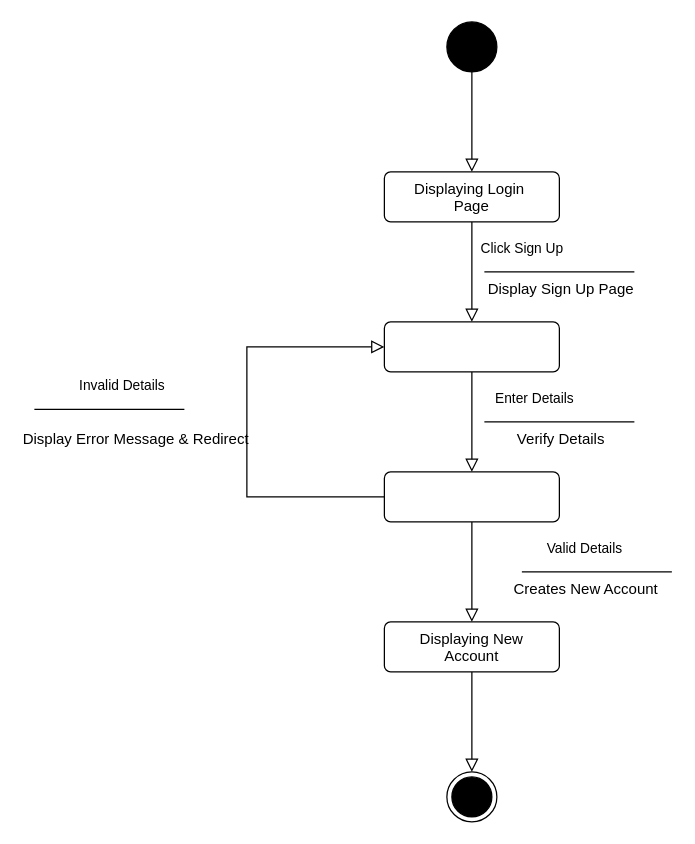
This 695x844 diagram has some shape labels left out. The centre of each missing label's shape, as x and y in pixels:
Displaying Sign Up Page: point (471, 346)
Verifying Details: point (471, 496)
